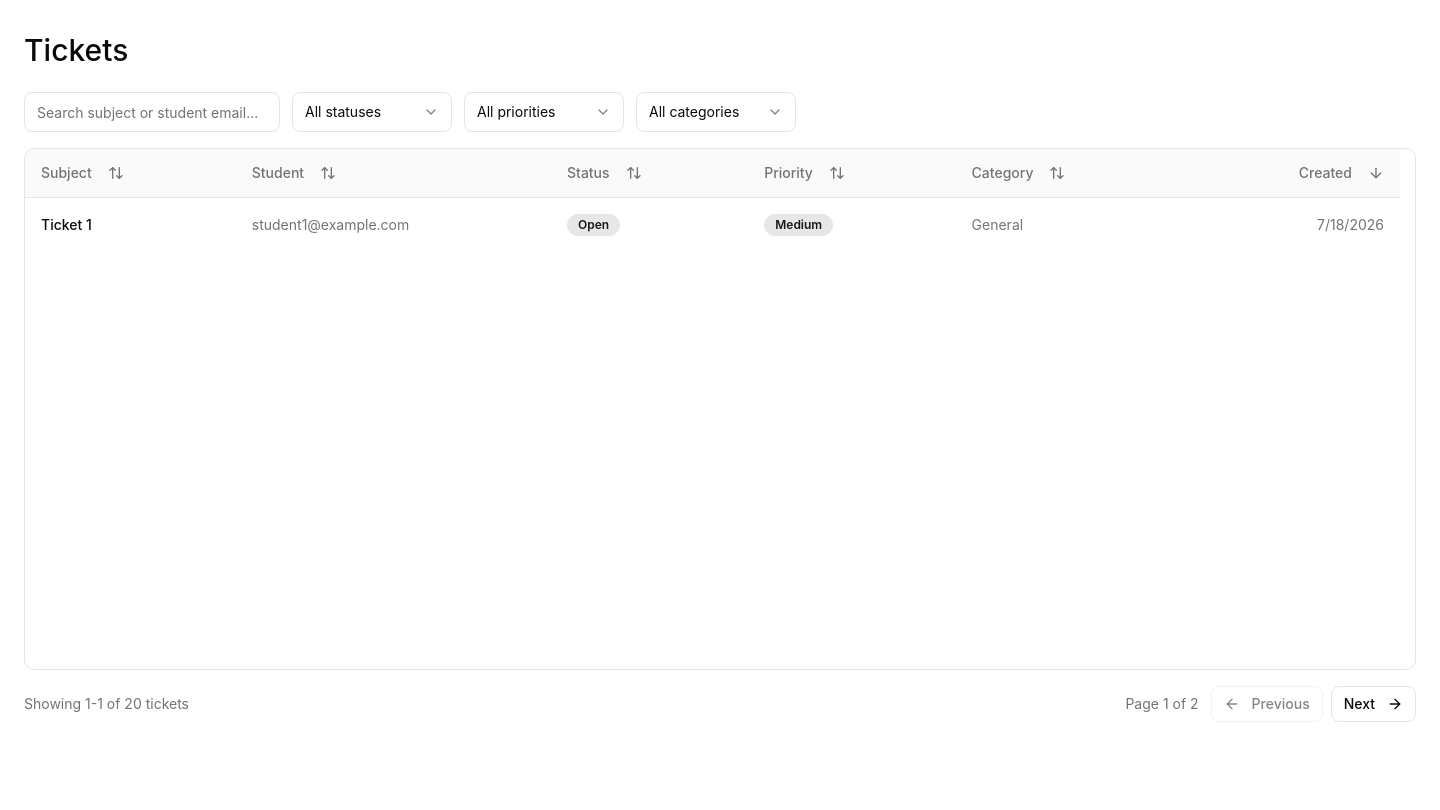
TicketsPage › filtering › clears all filters and re-fetches unfiltered results when Clear filters is clicked
Check: the text "Page 1 of 2" is shown, box 1125,694 -> 1199,714
Click the dropdown named "Filter by status": coordinates (372, 112) 292,92 -> 452,132
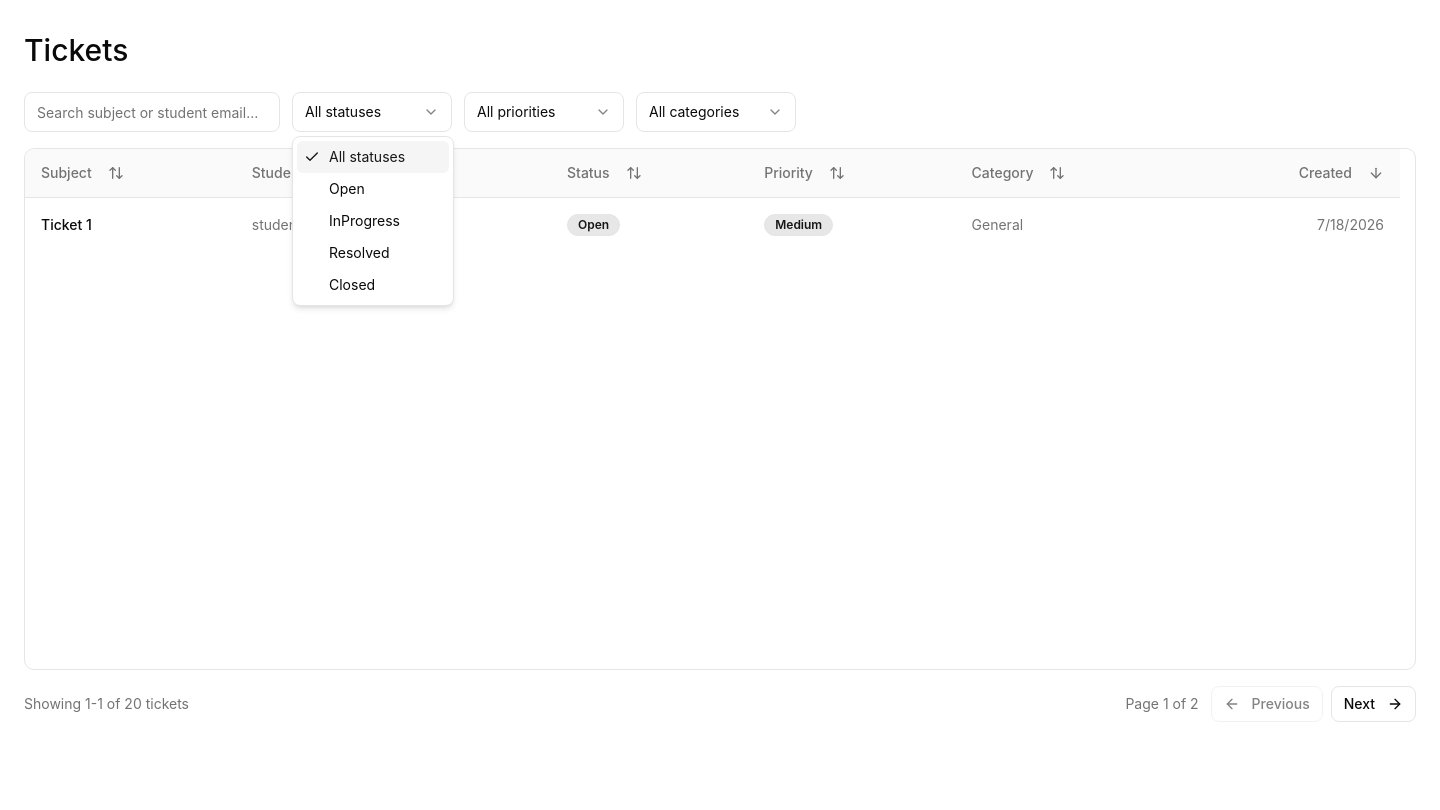
Click the option "Open": coordinates (347, 188) 329,180 -> 365,197
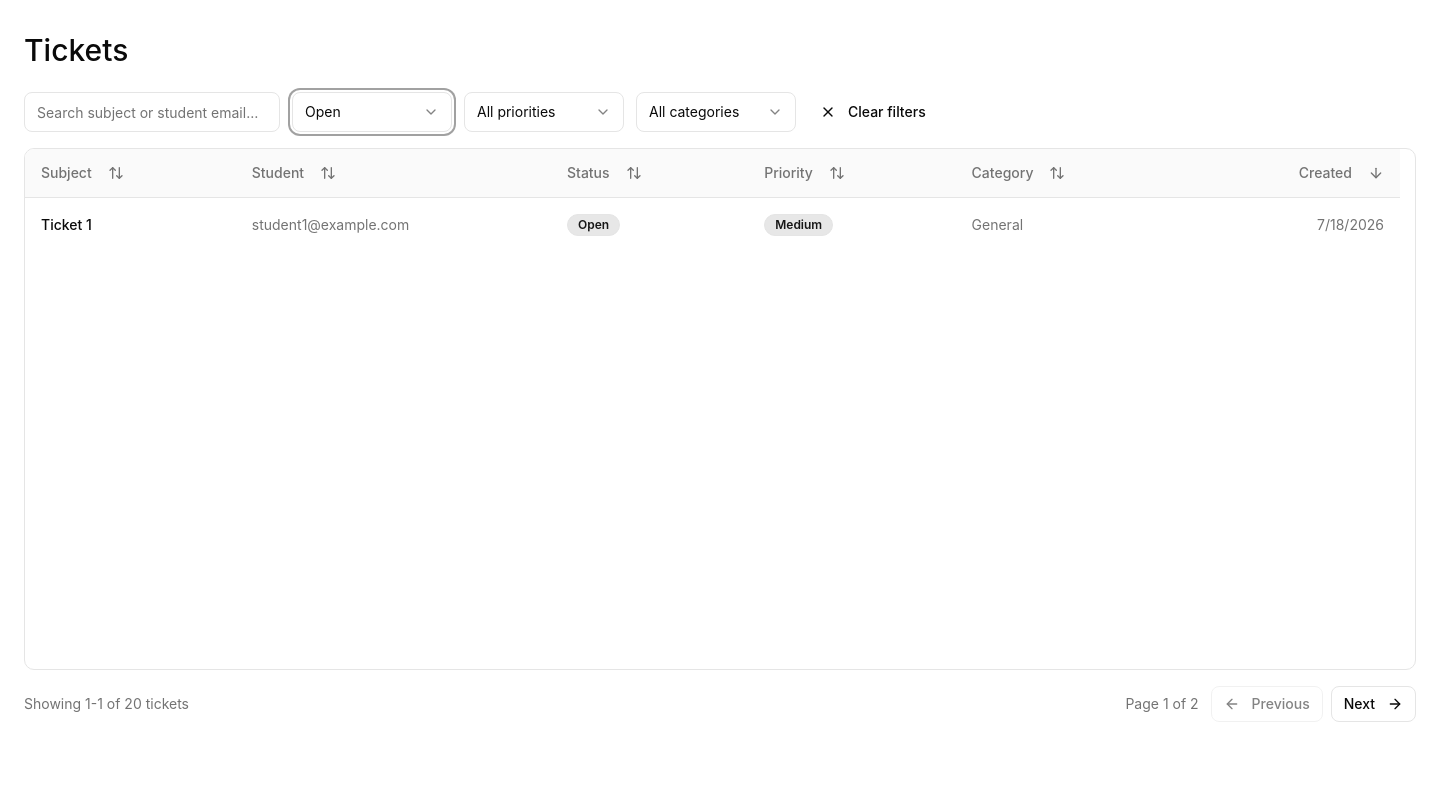
Check: the button "Clear filters" is shown
Click the button "Clear filters": coordinates (873, 112) 808,94 -> 938,130
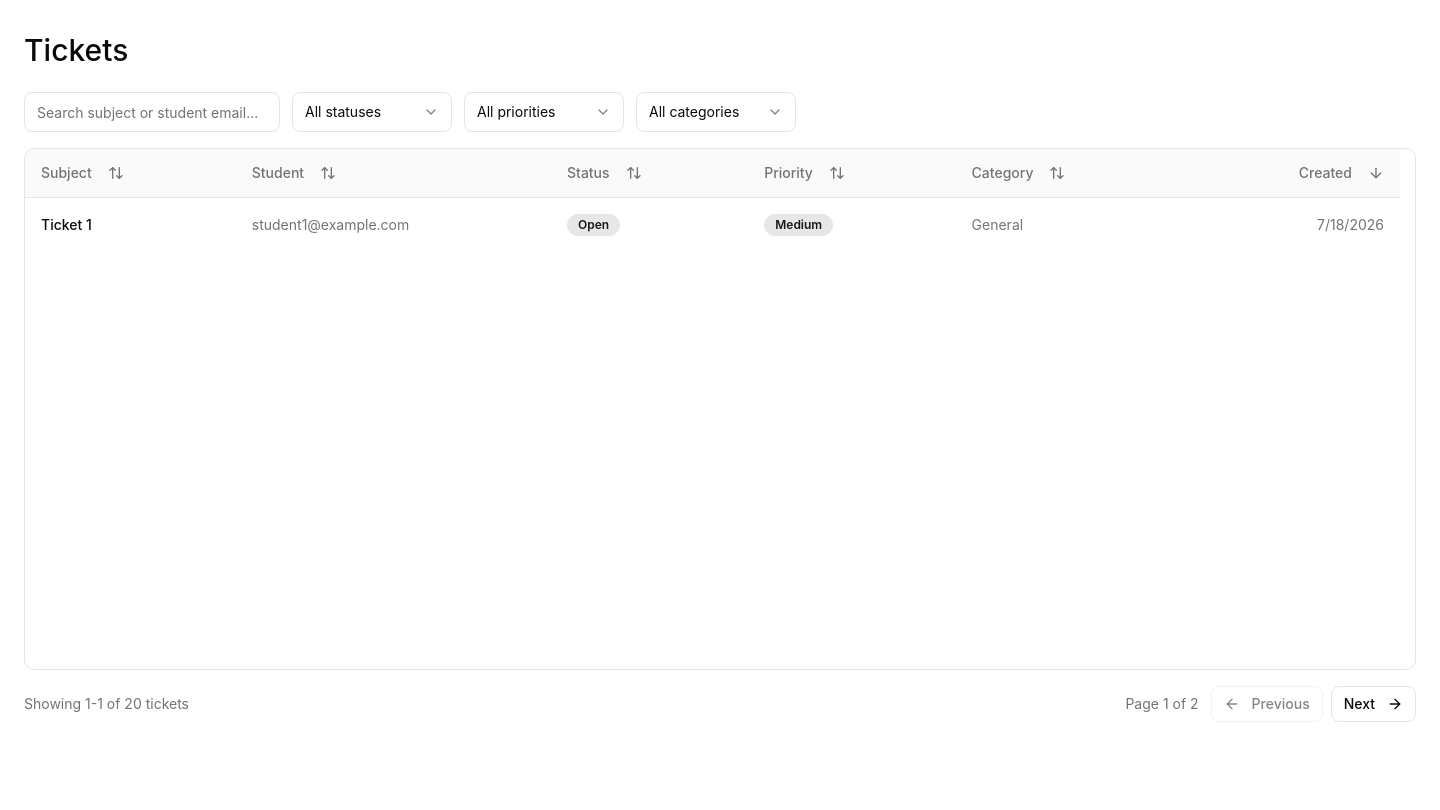
Check: the button "Clear filters" is gone
